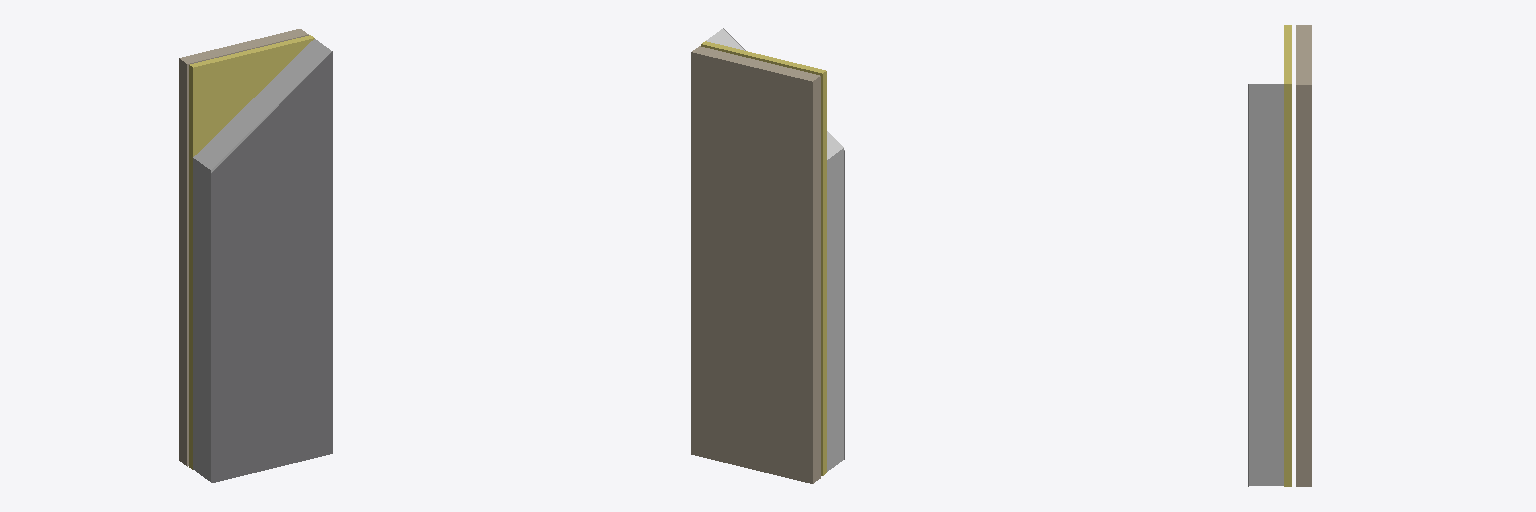
The model's file is CutAwayConcreteMassSprayExInsulation.obj.
The picture shows the model from 3 angles: view 1: azimuth 30°, elevation 25°; view 2: azimuth 150°, elevation 25°; view 3: azimuth 270°, elevation 25°; orthographic projection.
Parts seen in each view (by area): view 1: Layer_4, CutAwayConcreteMassSprayExInsulation, Layer_3, Layer_5; view 2: Layer_5, CutAwayConcreteMassSprayExInsulation, Layer_3; view 3: CutAwayConcreteMassSprayExInsulation, Layer_5, Layer_3.
Part boxes in pixels (bbox=[...]): Layer_4: bbox=[211, 51, 332, 482]; CutAwayConcreteMassSprayExInsulation: bbox=[193, 39, 331, 481]; Layer_3: bbox=[189, 35, 314, 469]; Layer_5: bbox=[179, 29, 308, 466]; Layer_5: bbox=[691, 46, 820, 483]; CutAwayConcreteMassSprayExInsulation: bbox=[706, 29, 843, 471]; Layer_3: bbox=[701, 41, 826, 475]; CutAwayConcreteMassSprayExInsulation: bbox=[1249, 84, 1283, 485]; Layer_5: bbox=[1296, 25, 1311, 486]; Layer_3: bbox=[1284, 25, 1291, 486].
Bounding box in the file's own units: 0.8653 × 2.74 × 0.3969.